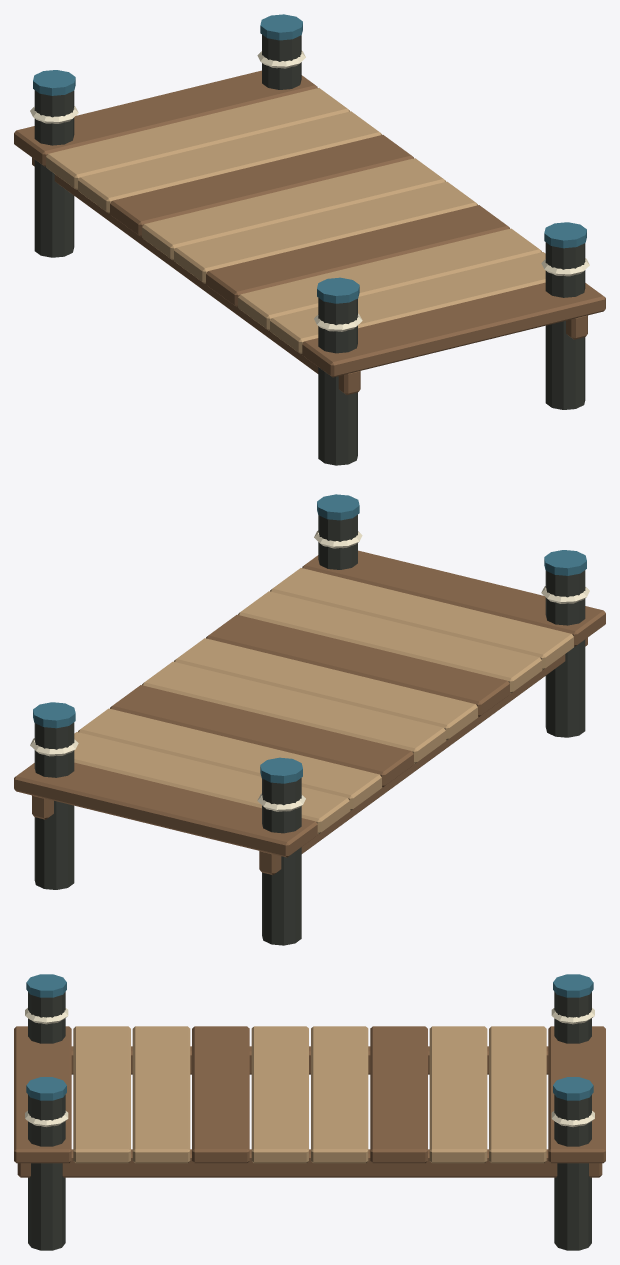
File: 01_Straight_Dock.glb
3 renders of one model, top to bottom at view 1: azimuth 30°, elevation 25°; view 2: azimuth 150°, elevation 25°; view 3: azimuth 270°, elevation 25°, orthographic. The views are drawn at different scales.
Visible parts, largest first — view 1: 01_Straight_Dock__Body; view 2: 01_Straight_Dock__Body; view 3: 01_Straight_Dock__Body.
Boxes of the visible parts, x1,y1,x2,y2 form: 01_Straight_Dock__Body: (14, 14, 605, 465); 01_Straight_Dock__Body: (14, 494, 605, 945); 01_Straight_Dock__Body: (14, 974, 605, 1250).
Bounding box in the file's own units: 2.98 × 1.76 × 5.98.
1 material, 1 textured.
